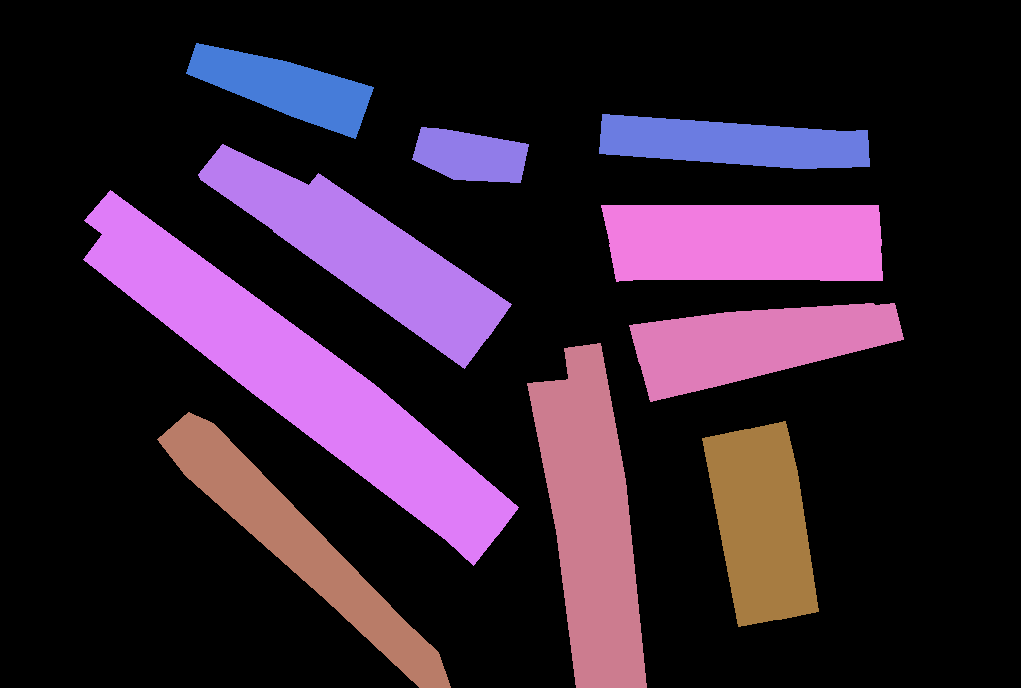parkingspot: (84, 190, 518, 535), (83, 230, 499, 565), (157, 412, 450, 688), (273, 200, 489, 368), (294, 173, 511, 338), (564, 343, 646, 688), (527, 379, 615, 688), (639, 303, 903, 401), (186, 43, 373, 138), (702, 429, 781, 626), (743, 421, 818, 619), (629, 303, 876, 363), (599, 114, 869, 168), (601, 205, 881, 245), (609, 244, 882, 281), (198, 144, 311, 231), (412, 127, 528, 182)
